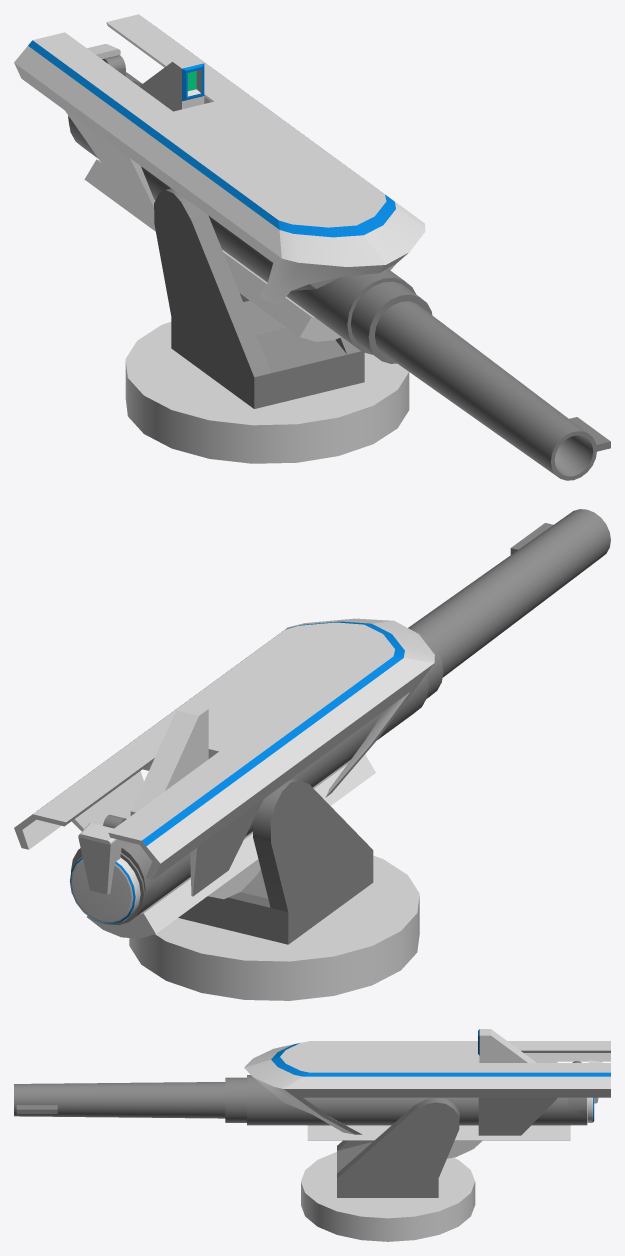
File: Cannon.fbx
The picture shows the model from 3 angles, top to bottom: view 1: azimuth 30°, elevation 25°; view 2: azimuth 150°, elevation 25°; view 3: azimuth 270°, elevation 25°; orthographic projection. The views are drawn at different scales.
Visible parts, largest first — view 1: pCylinder63, pCylinder62, pCube12; view 2: pCylinder63, pCylinder62, pCube12; view 3: pCylinder63, pCylinder62, pCube12.
Part boxes in pixels (bbox=[...]): pCylinder63: bbox=[14, 14, 610, 480]; pCylinder62: bbox=[125, 322, 409, 463]; pCube12: bbox=[154, 188, 364, 408]; pCylinder63: bbox=[14, 509, 610, 938]; pCylinder62: bbox=[129, 855, 419, 1000]; pCube12: bbox=[178, 778, 373, 944]; pCylinder63: bbox=[14, 1029, 610, 1158]; pCylinder62: bbox=[301, 1152, 475, 1241]; pCube12: bbox=[337, 1097, 459, 1197].
Size of the model in its own units: 62.4 by 68.28 by 214.
